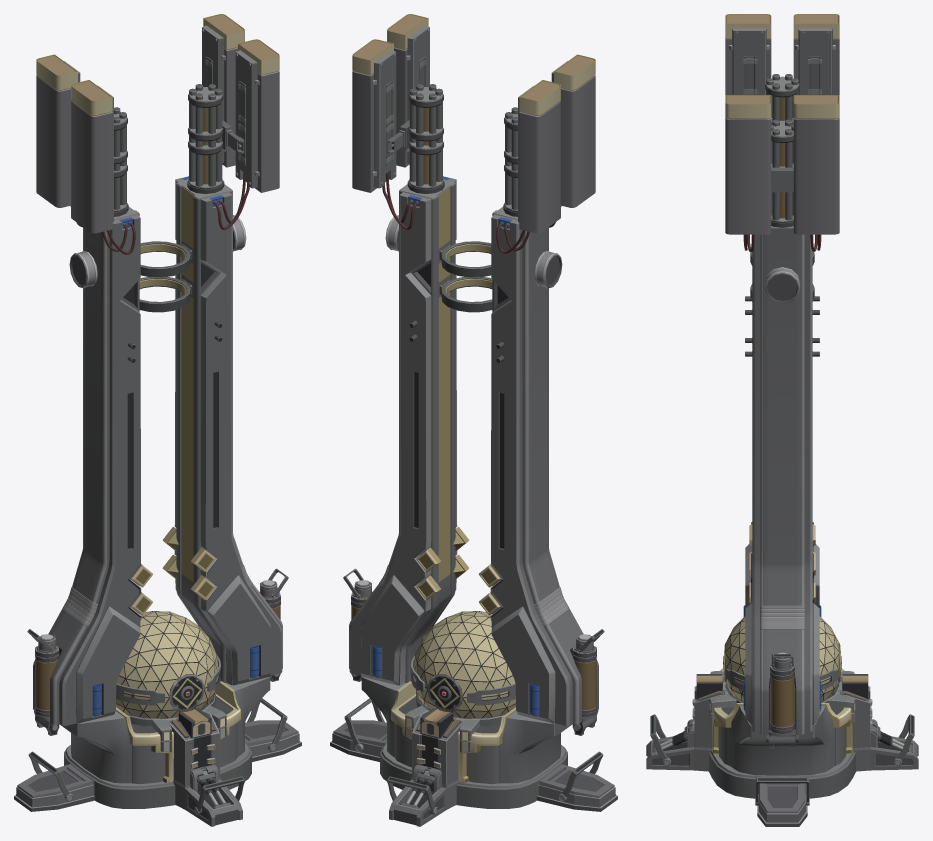
Rendered from antenna.fbx.
3 renders of one model, left to right at view 1: azimuth 30°, elevation 25°; view 2: azimuth 150°, elevation 25°; view 3: azimuth 270°, elevation 25°, orthographic.
Visible parts, largest first — view 1: Cube.055, Cube.054, Cube.009, Cube.056, Icosphere, Cube.070, Cube.007, Cube.067, Cylinder.032, Cylinder.012, Cylinder.014, Cube.071 (+16 smaller); view 2: Cube.055, Cube.054, Cube.009, Cube.056, Icosphere, Cube.070, Cube.007, Cube.067, Cylinder.032, Cylinder.012, Cylinder.014, Cube.071 (+16 smaller); view 3: Cube.054, Cube.009, Cube.055, Cube.070, Cube.067, Cube.008, Cylinder.012, Cube.056, Icosphere, Cube.007, Cylinder.032, Cylinder.014 (+12 smaller).
Part boxes in pixels (x1,y1,x2,y2): Cube.055: [35, 178, 282, 725]; Cube.054: [33, 180, 282, 724]; Cube.009: [36, 14, 279, 233]; Cube.056: [76, 575, 270, 723]; Icosphere: [116, 611, 218, 718]; Cube.070: [59, 676, 270, 783]; Cube.007: [14, 720, 301, 811]; Cube.067: [64, 25, 257, 222]; Cylinder.032: [114, 84, 222, 209]; Cylinder.012: [64, 743, 251, 808]; Cylinder.014: [34, 580, 280, 721]; Cube.071: [115, 681, 240, 782]; Cube.055: [349, 178, 596, 725]; Cube.054: [349, 180, 598, 724]; Cube.009: [352, 14, 595, 233]; Cube.056: [361, 575, 555, 723]; Icosphere: [413, 611, 515, 718]; Cube.070: [361, 676, 572, 783]; Cube.007: [330, 720, 617, 811]; Cube.067: [374, 25, 567, 222]; Cylinder.032: [409, 84, 517, 209]; Cylinder.012: [380, 743, 567, 808]; Cylinder.014: [351, 580, 598, 721]; Cube.071: [391, 681, 516, 782]; Cube.054: [760, 226, 804, 734]; Cube.009: [725, 14, 839, 234]; Cube.055: [751, 234, 813, 731]; Cube.070: [730, 705, 834, 775]; Cube.067: [732, 28, 832, 94]; Cube.008: [646, 736, 918, 771]; Cylinder.012: [709, 751, 855, 798]; Cube.056: [745, 544, 819, 725]; Icosphere: [725, 616, 839, 701]; Cube.007: [757, 783, 807, 826]; Cylinder.032: [766, 74, 798, 220]; Cylinder.014: [769, 652, 795, 736].
Bounding box in the file's own units: 53497 × 135080 × 47440.
